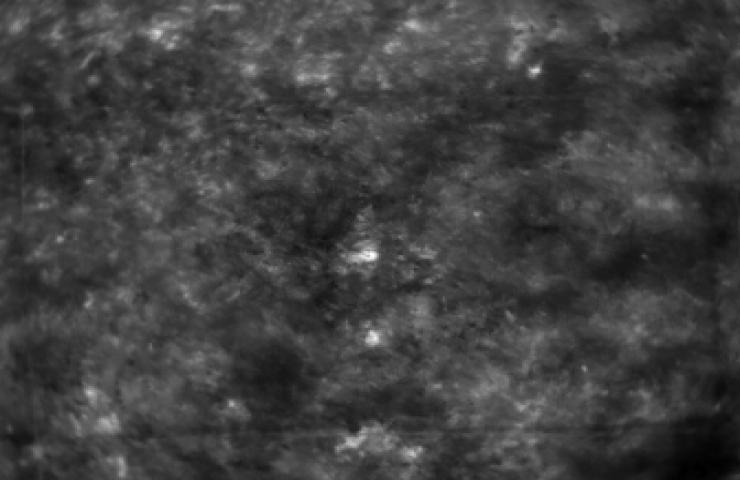landmines: (346, 242, 381, 267)
